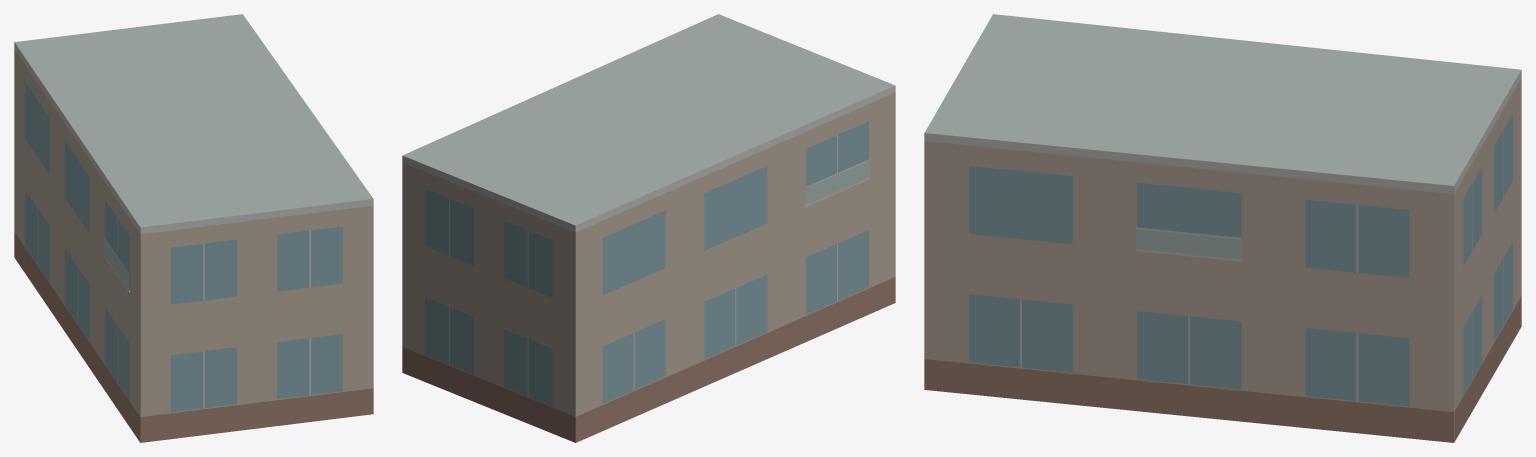
Rendered from survey-upis-33045267.glb.
3 renders of one model, left to right at view 1: azimuth 30°, elevation 25°; view 2: azimuth 150°, elevation 25°; view 3: azimuth 270°, elevation 25°, orthographic. The views are drawn at different scales.
Visible parts, largest first — view 1: survey-upis-33045267.tmp; view 2: survey-upis-33045267.tmp; view 3: survey-upis-33045267.tmp.
Part boxes in pixels (left/top/right/bottom): survey-upis-33045267.tmp: left=14, top=14, right=373, bottom=442; survey-upis-33045267.tmp: left=402, top=14, right=895, bottom=442; survey-upis-33045267.tmp: left=924, top=14, right=1521, bottom=442.
Size of the model in its own units: 11.07 by 7.7 by 16.23.
